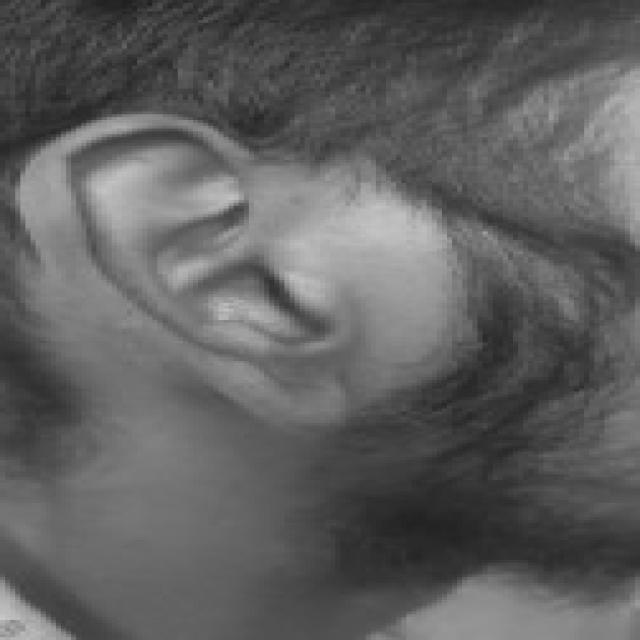ear: (20, 111, 340, 420)
